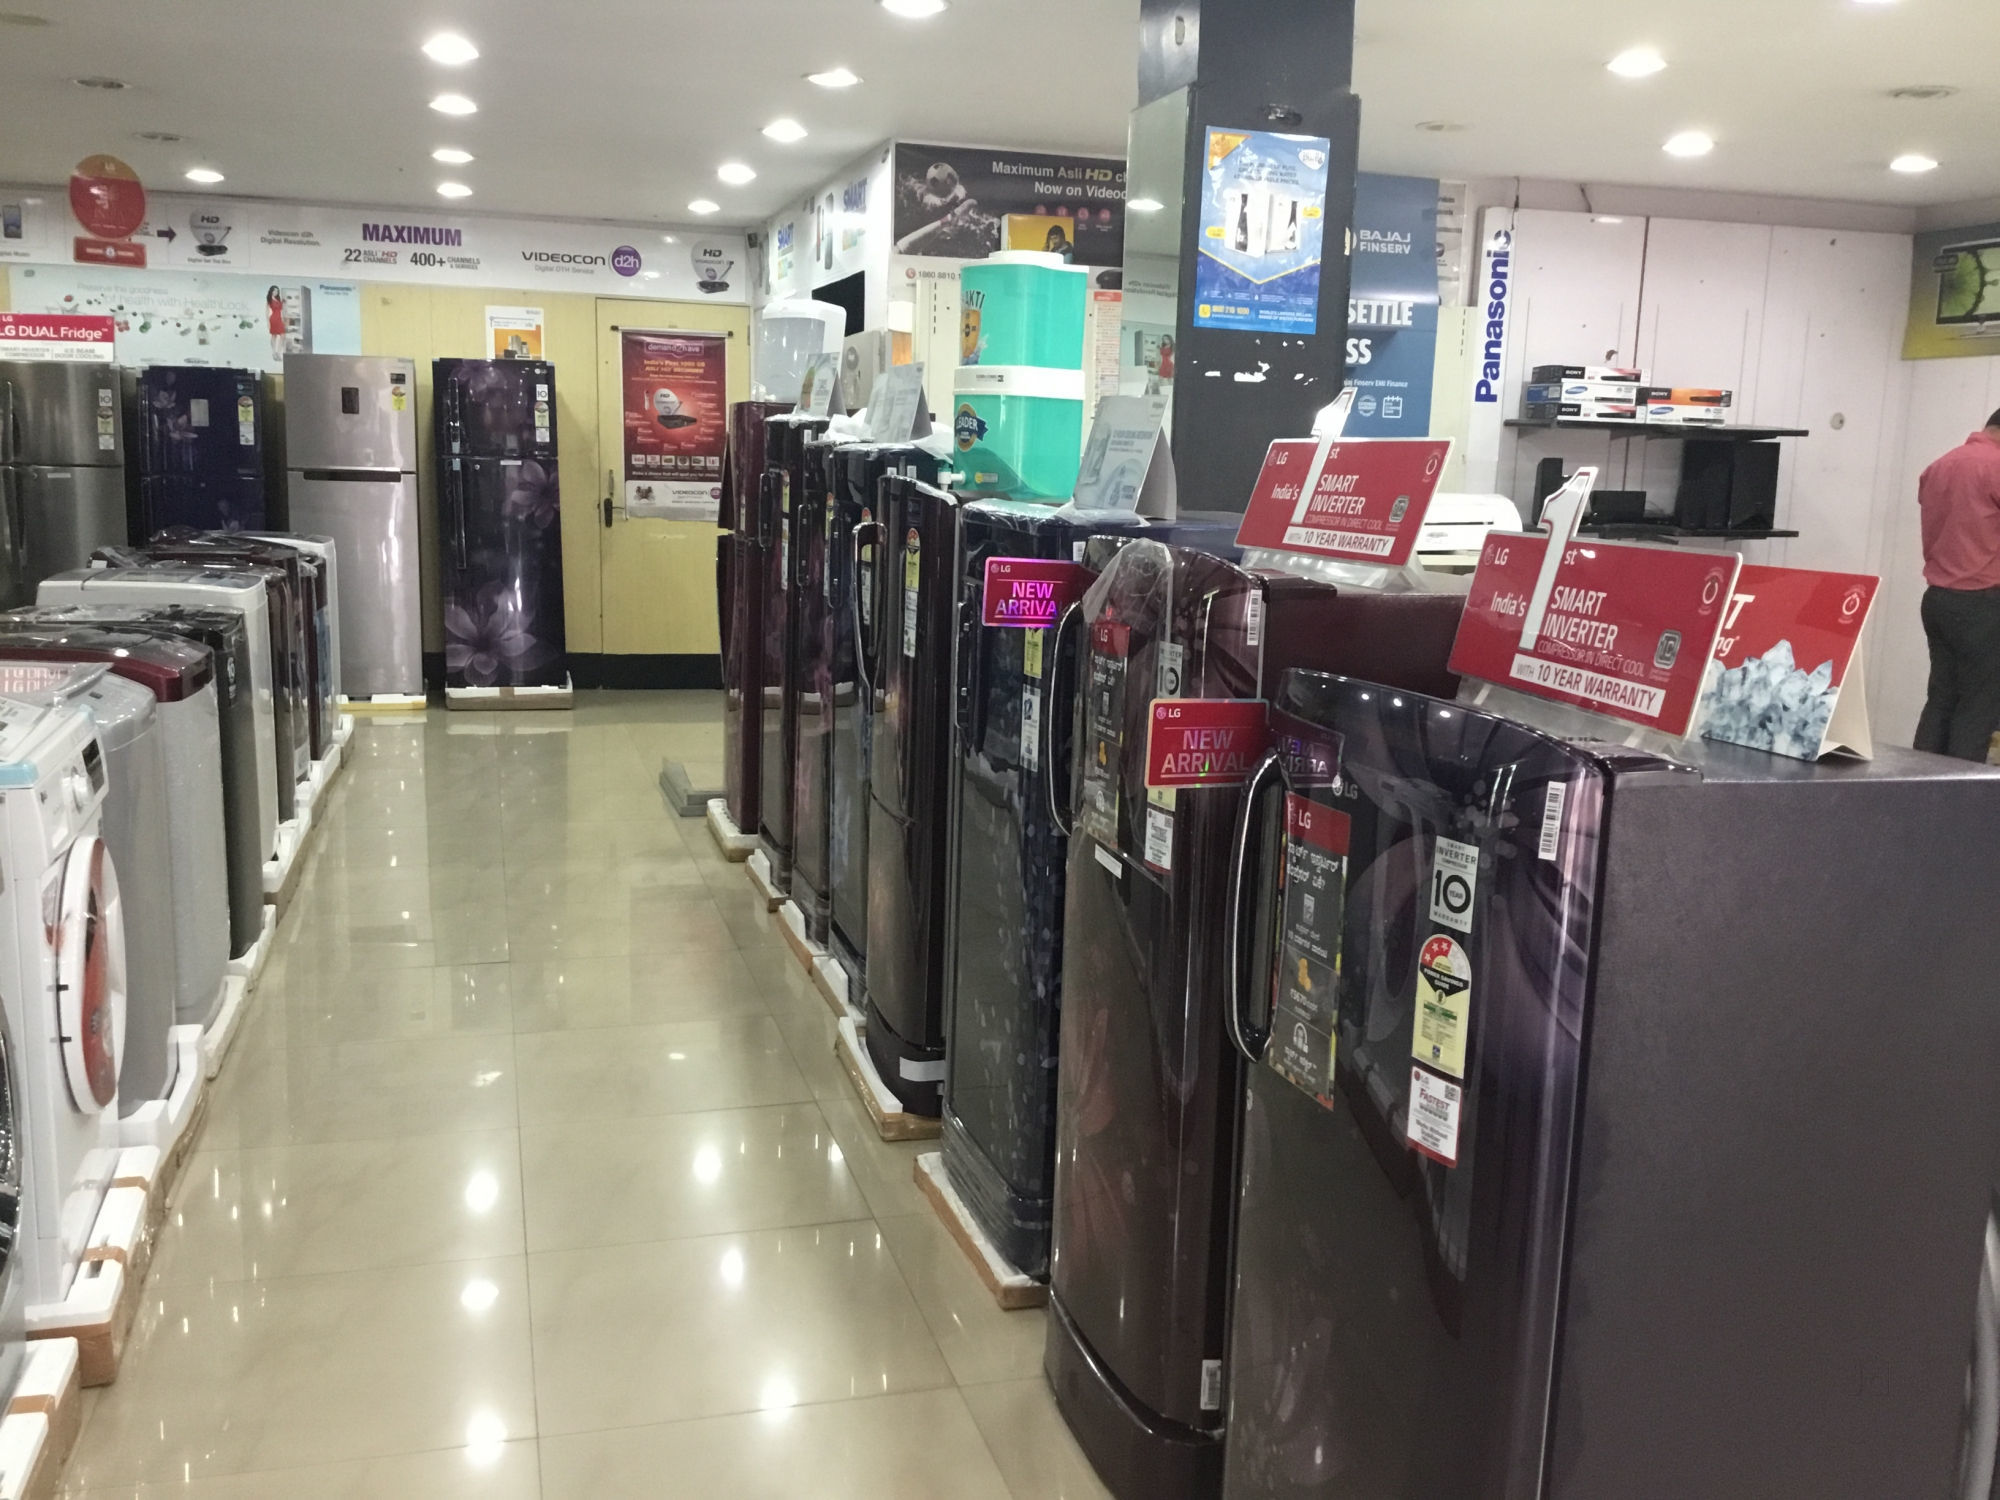Refrigerator: (1285, 679, 1643, 1500), (439, 364, 557, 690), (346, 359, 420, 693)
